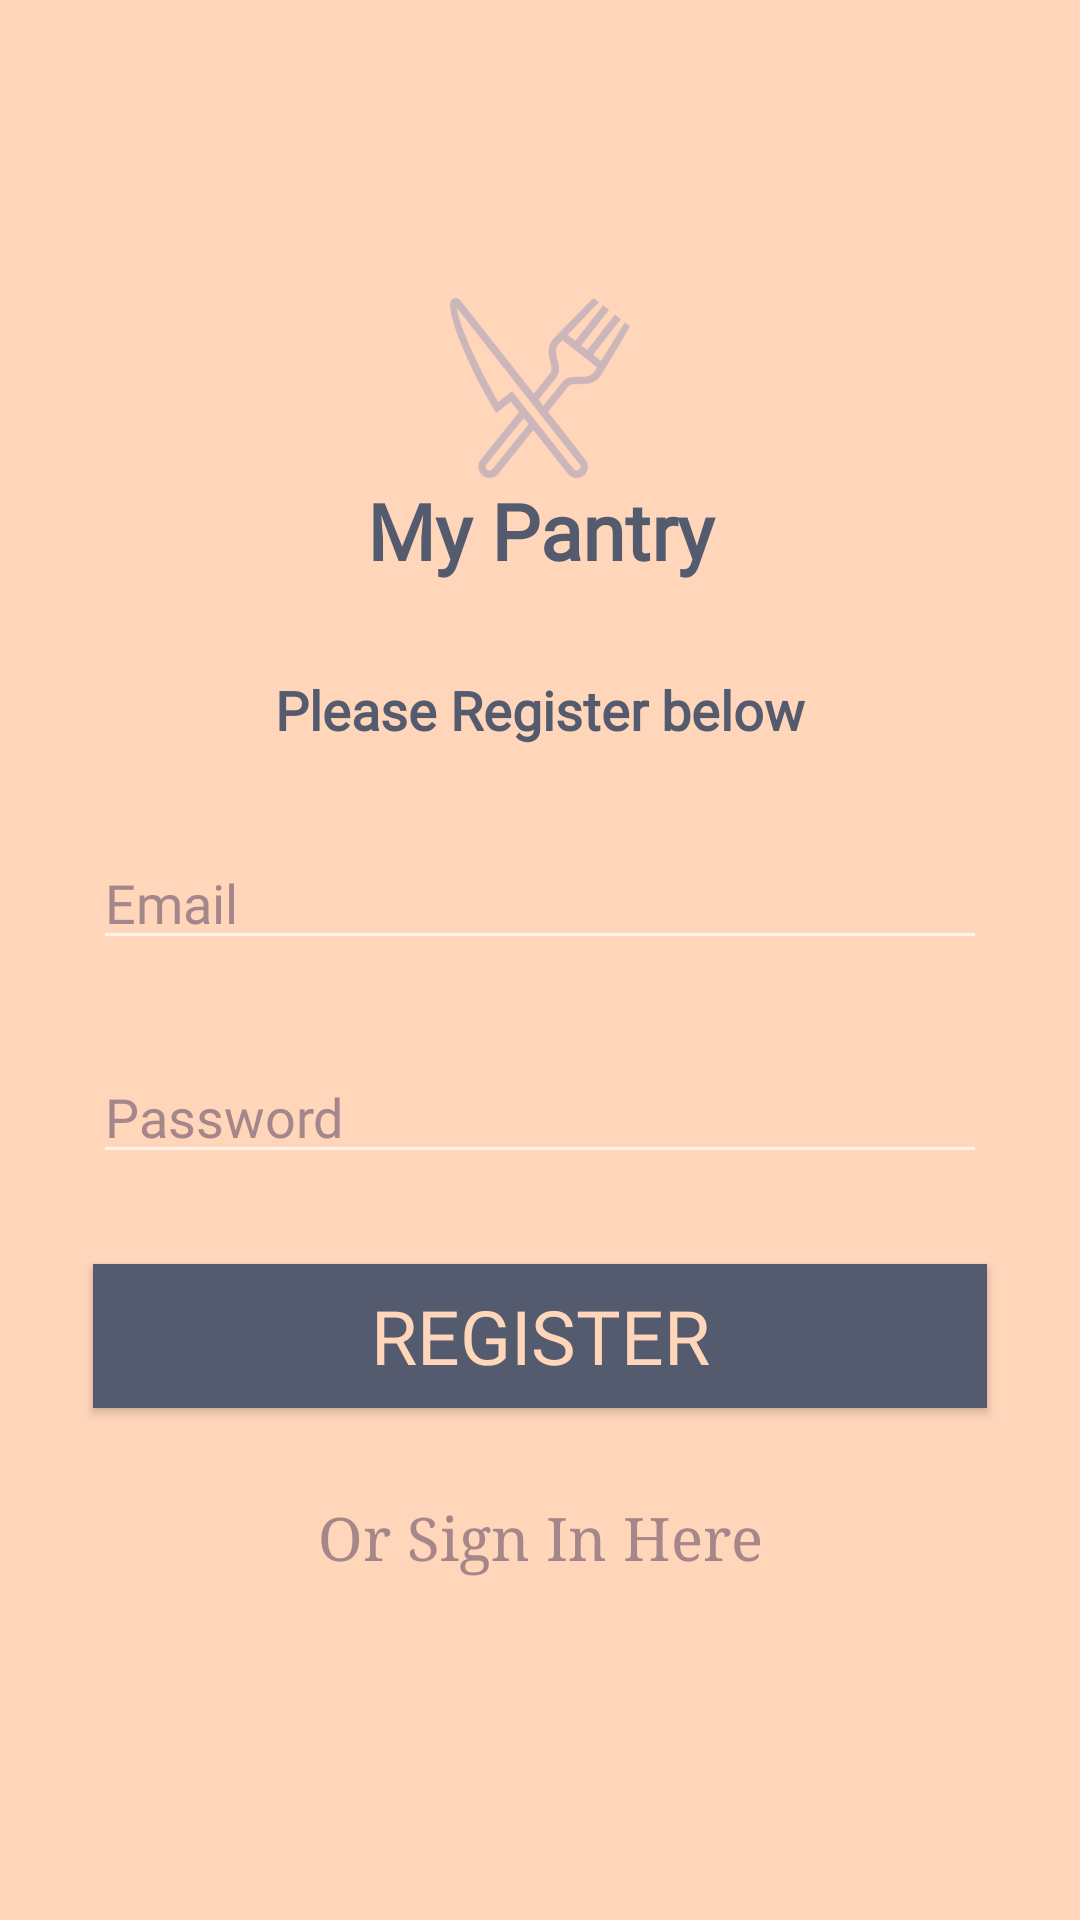

Icon bounding boxes for this 1080w x 1920h phone screenshot, format {"left": x1, "top": y1, "right": x2, "bottom": y2}:
cutlery: {"left": 450, "top": 298, "right": 630, "bottom": 478}
